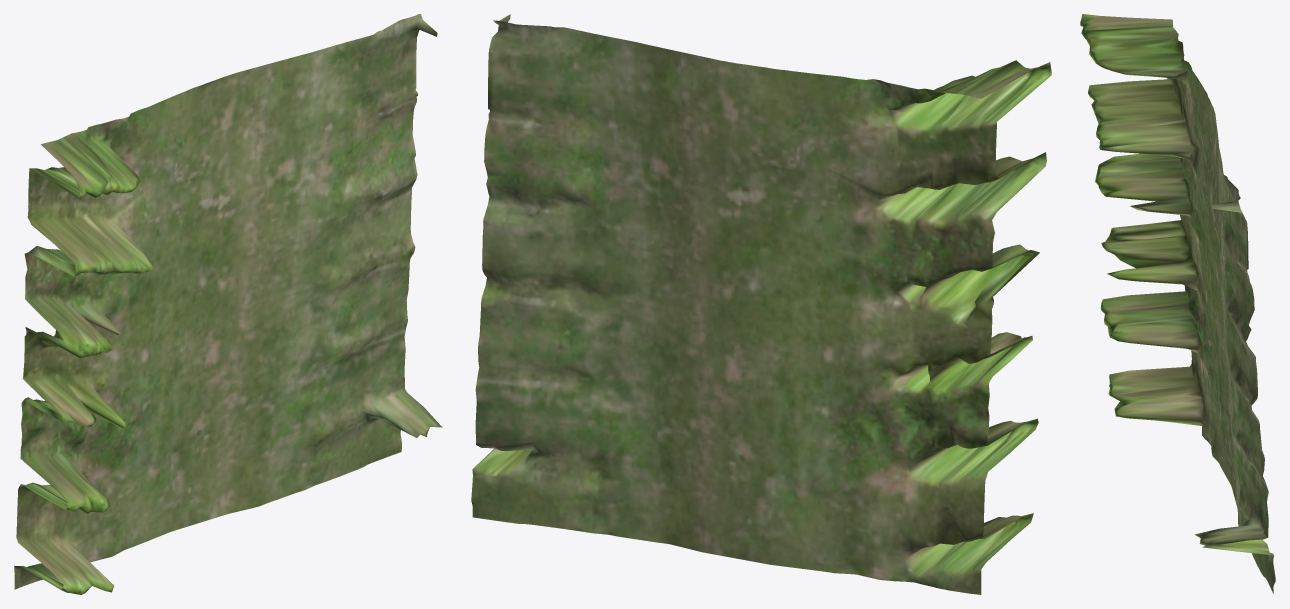
File: map_210_10.obj
3 renders of one model, left to right at view 1: azimuth 30°, elevation 25°; view 2: azimuth 150°, elevation 25°; view 3: azimuth 270°, elevation 25°, orthographic. The views are drawn at different scales.
Visible parts, largest first — view 1: map_210_10.obj; view 2: map_210_10.obj; view 3: map_210_10.obj.
Part boxes in pixels (box(x1,y1,x2,y2)): map_210_10.obj: box(14, 14, 442, 594); map_210_10.obj: box(471, 14, 1051, 594); map_210_10.obj: box(1080, 14, 1275, 594).
Bounding box in the file's own units: 10 × 10 × 4.47.
Materials: 1 (1 with a texture image).
